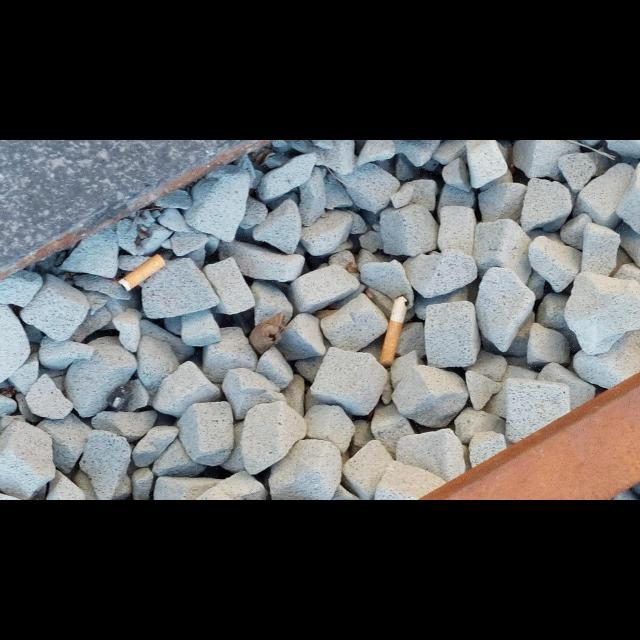cigarette: (379, 294, 409, 368), (118, 254, 166, 292)
